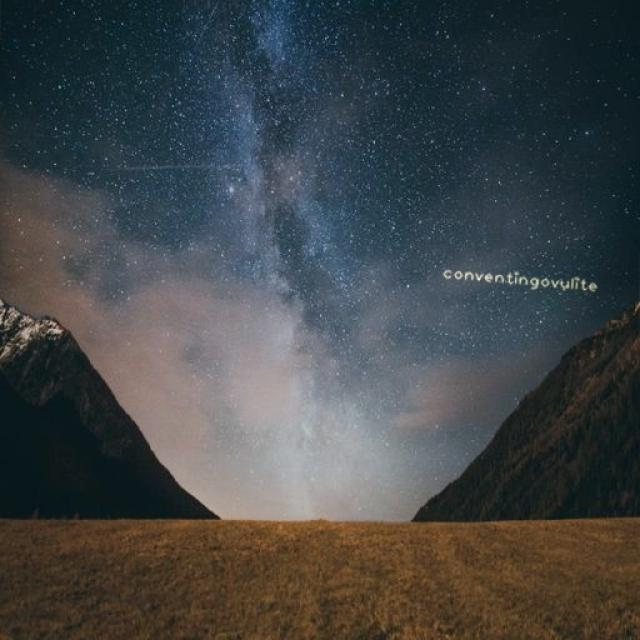watermark: (437, 265, 608, 293)
